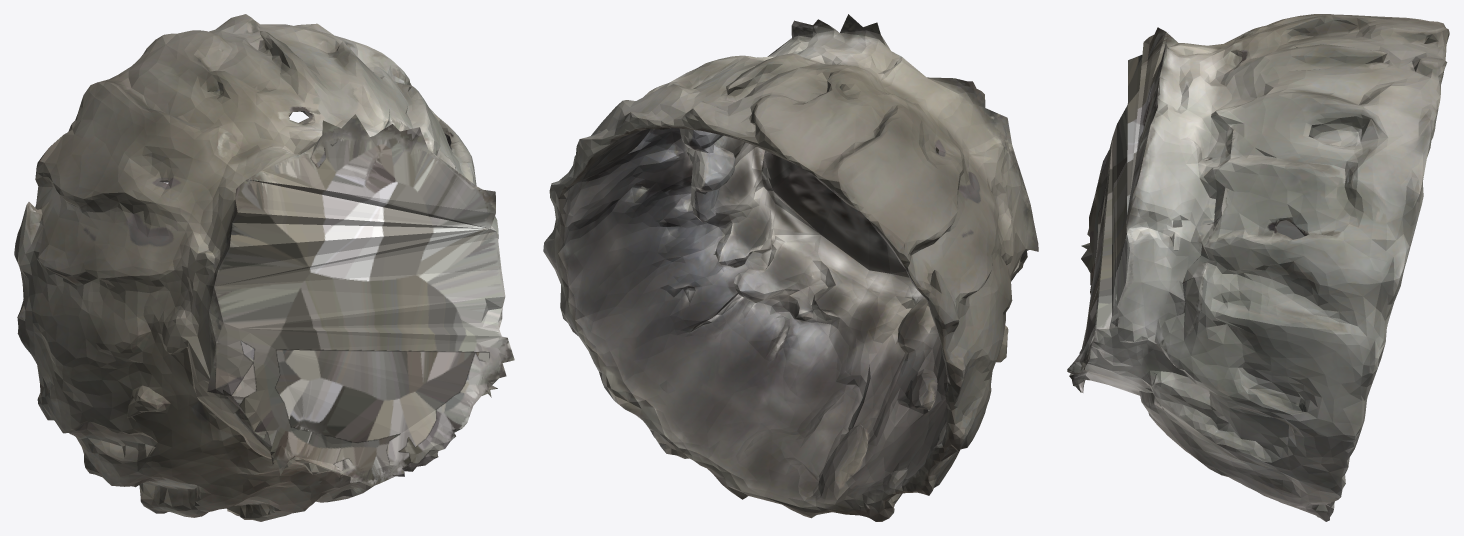
Rendered from glass_bowl.glb.
3 views of the same model, side by side, from view 1: azimuth 30°, elevation 25°; view 2: azimuth 150°, elevation 25°; view 3: azimuth 270°, elevation 25° (orthographic). The views are drawn at different scales.
Visible parts, largest first — view 1: world; view 2: world; view 3: world.
Boxes of the visible parts, left/top/right/bottom form: world: left=14, top=14, right=514, bottom=521; world: left=543, top=14, right=1038, bottom=521; world: left=1067, top=14, right=1449, bottom=521.
Size of the model in its own units: 1.09 by 1.08 by 0.816.
Materials: 1 (1 with a texture image).
